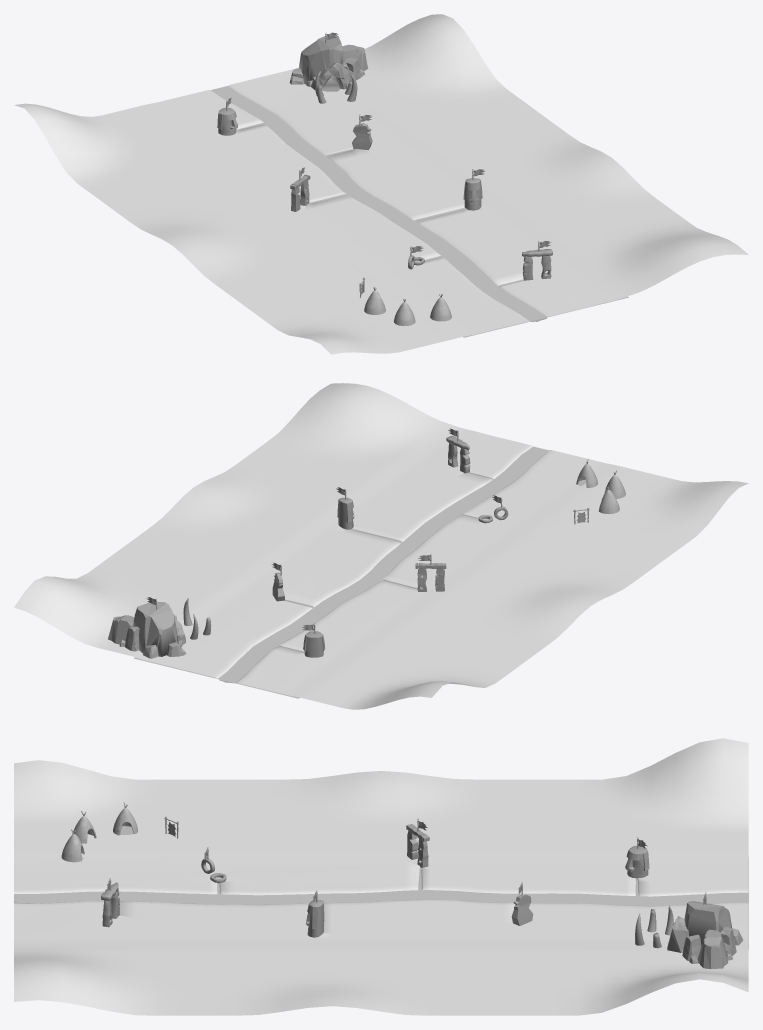
File: Map1.fbx
3 renders of one model, top to bottom at view 1: azimuth 30°, elevation 25°; view 2: azimuth 150°, elevation 25°; view 3: azimuth 270°, elevation 25°, orthographic. The views are drawn at different scales.
Parts seen in each view (by area): view 1: Ground, Water, Cave, Plane.030, stonehead_2, Stonehenge_2; view 2: Ground, Water, Cave, Stonehenge_2, Plane.030, stonehead_1, stonehead_2; view 3: Ground, Water, Cave, Stonehenge_2, stonehead_1, Plane.030, stonehead_2, stone_paint, Tent.002, Tent.001.
Part boxes in pixels (x1,y1,x2,y2): Ground: (14, 14, 748, 354); Water: (211, 86, 628, 337); Cave: (289, 32, 368, 103); Plane.030: (522, 241, 552, 280); stonehead_2: (463, 169, 485, 210); Stonehenge_2: (290, 167, 310, 211); Ground: (14, 383, 748, 709); Water: (133, 446, 548, 698); Cave: (108, 597, 211, 658); Stonehenge_2: (415, 554, 446, 591); Plane.030: (446, 428, 470, 473); stonehead_1: (302, 623, 325, 657); stonehead_2: (336, 487, 354, 529); Ground: (14, 738, 748, 1015); Water: (14, 857, 748, 949); Cave: (635, 892, 743, 969); Stonehenge_2: (406, 818, 429, 867); stonehead_1: (625, 837, 649, 878); Plane.030: (101, 878, 119, 927); stonehead_2: (306, 890, 324, 937); stone_paint: (511, 894, 533, 925); Tent.002: (113, 802, 137, 835); Tent.001: (61, 829, 84, 862).
Size of the model in its own units: 46.51 by 5.7 by 61.08.
